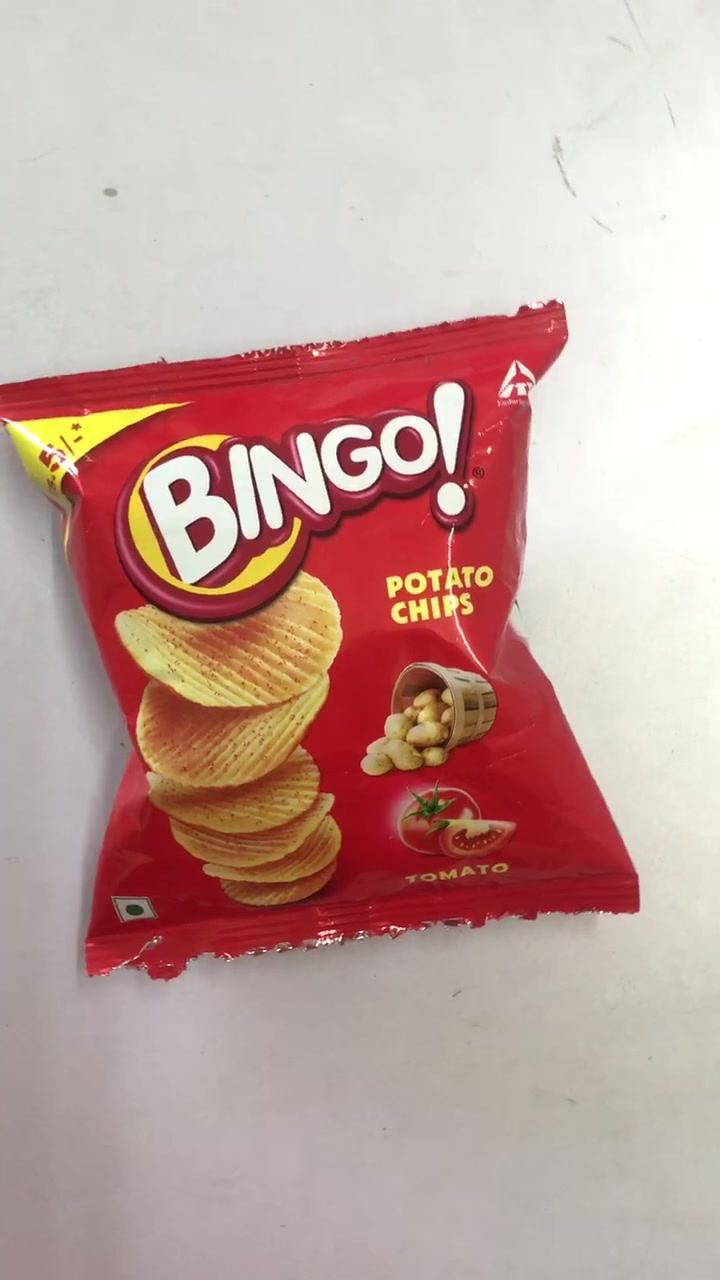Bingo: (6, 305, 641, 959)
